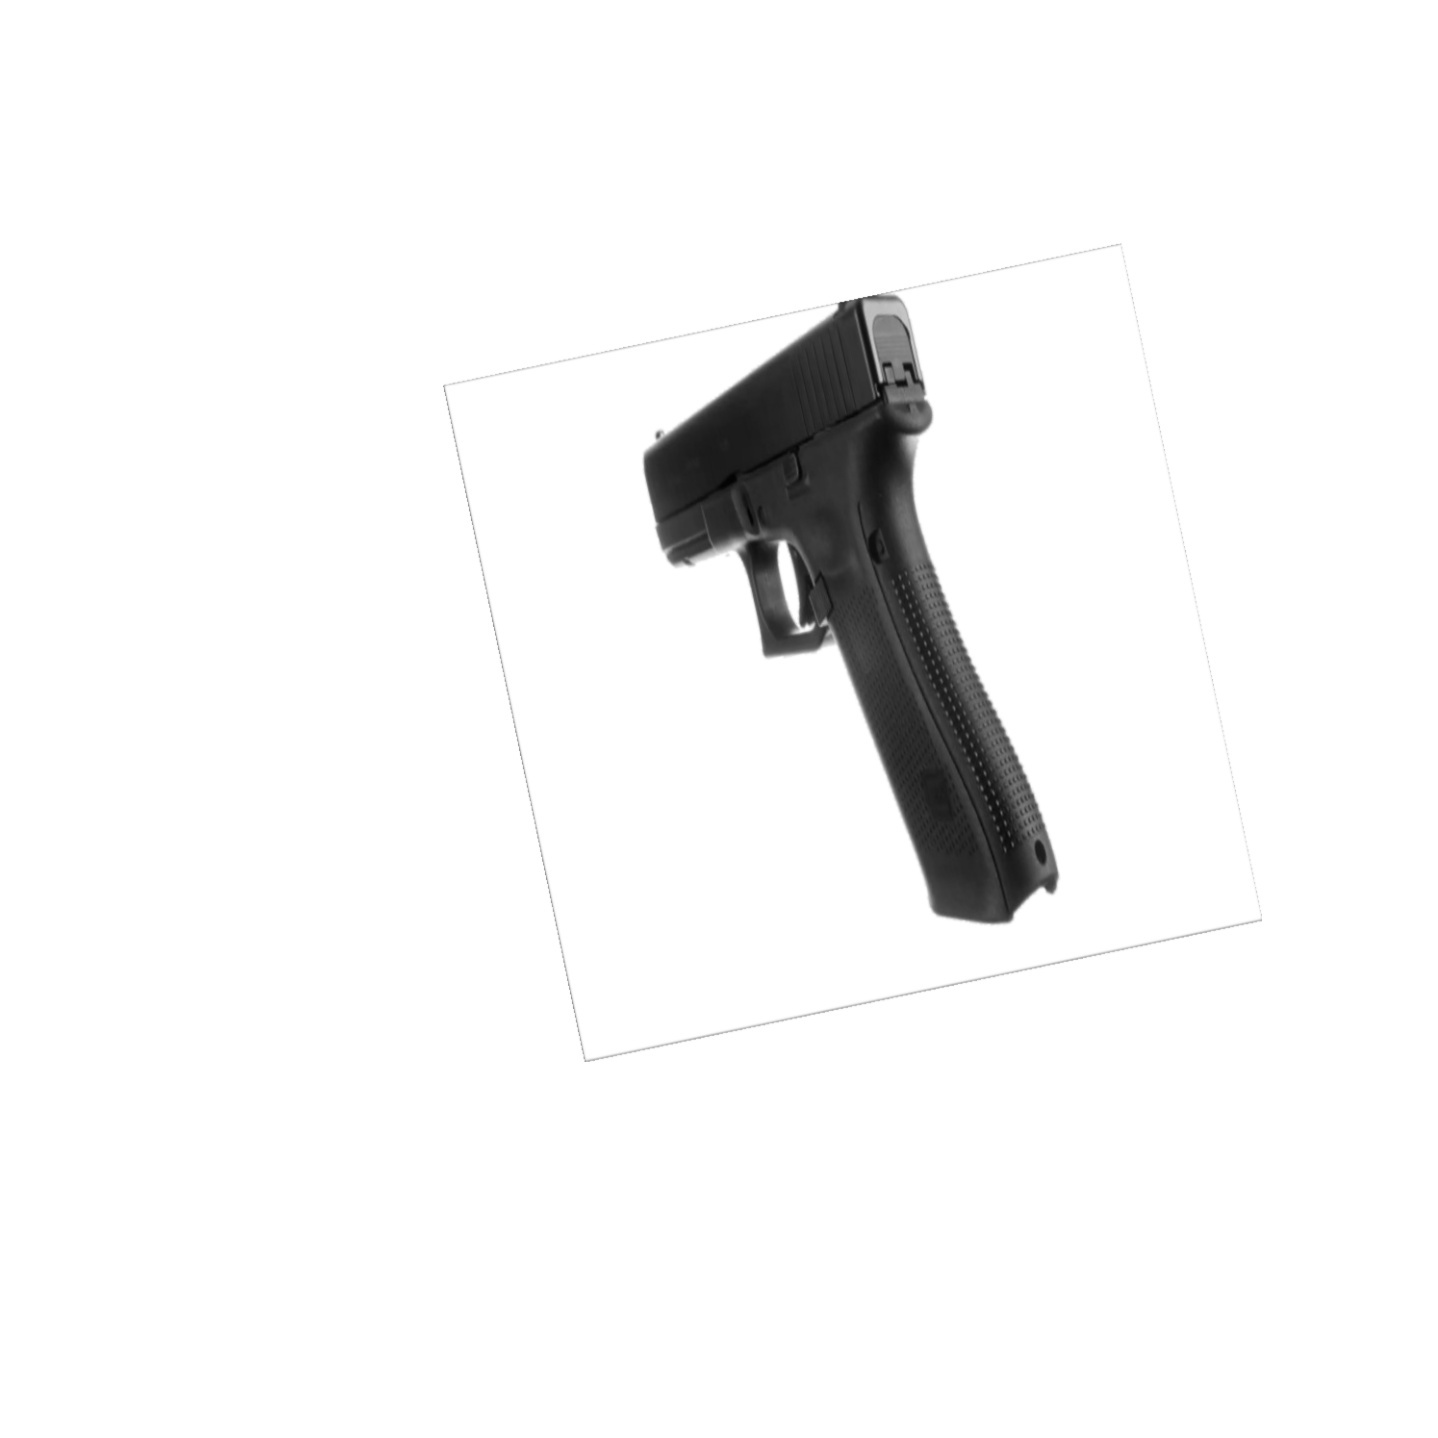gun: (641, 294, 1059, 924)
